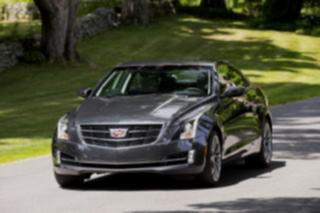cadillac: (107, 126, 132, 141)
